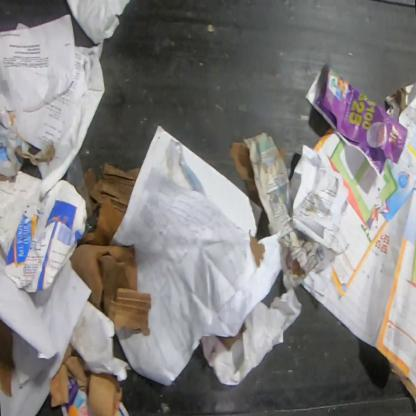cardboard: (70, 162, 151, 336), (4, 180, 87, 294), (49, 342, 125, 415), (0, 131, 56, 183), (0, 319, 16, 397), (216, 321, 246, 350)
soft_plastic: (200, 287, 303, 386), (65, 152, 98, 233)
